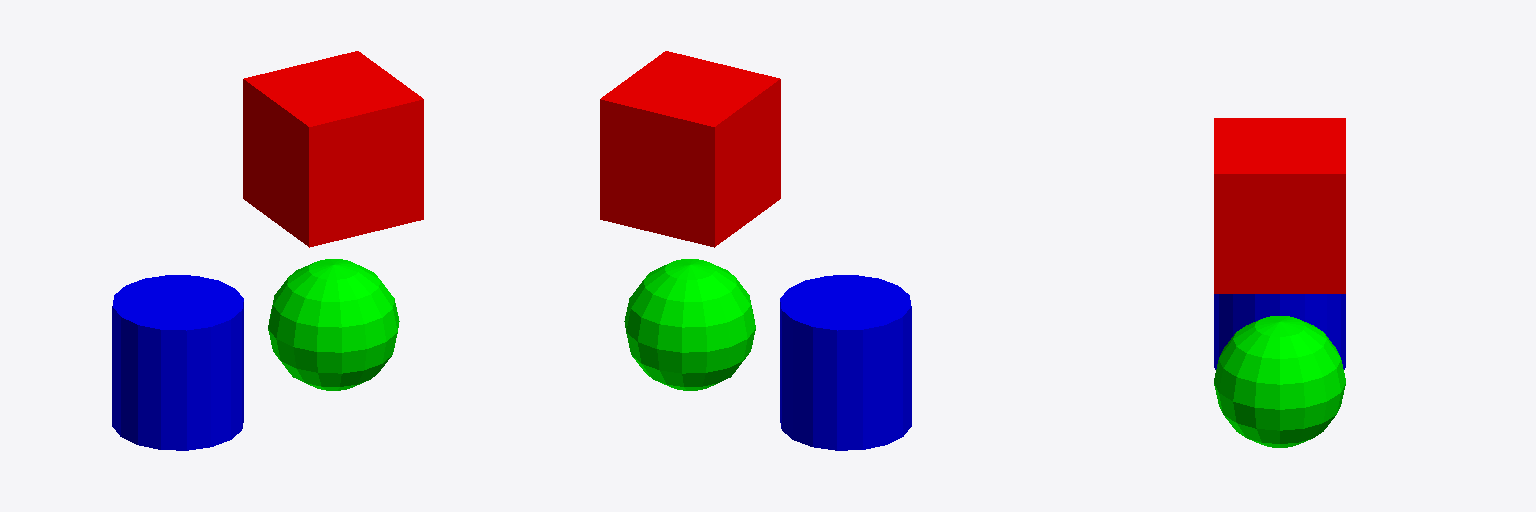
3 views of the same model, side by side, from view 1: azimuth 30°, elevation 25°; view 2: azimuth 150°, elevation 25°; view 3: azimuth 270°, elevation 25° (orthographic).
Visible parts, largest first — view 1: cube1, cylinder2, sphere3; view 2: cube1, cylinder2, sphere3; view 3: cube1, sphere3, cylinder2.
Boxes of the visible parts, box(x1,y1,x2,y2) form: cube1: box(243, 51, 423, 247); cylinder2: box(112, 275, 243, 450); sphere3: box(268, 259, 399, 390); cube1: box(600, 51, 780, 247); cylinder2: box(780, 275, 911, 450); sphere3: box(624, 259, 755, 390); cube1: box(1214, 118, 1345, 293); sphere3: box(1214, 316, 1345, 447); cylinder2: box(1214, 294, 1345, 369).
Size of the model in its own units: 4.71 by 4.92 by 2.